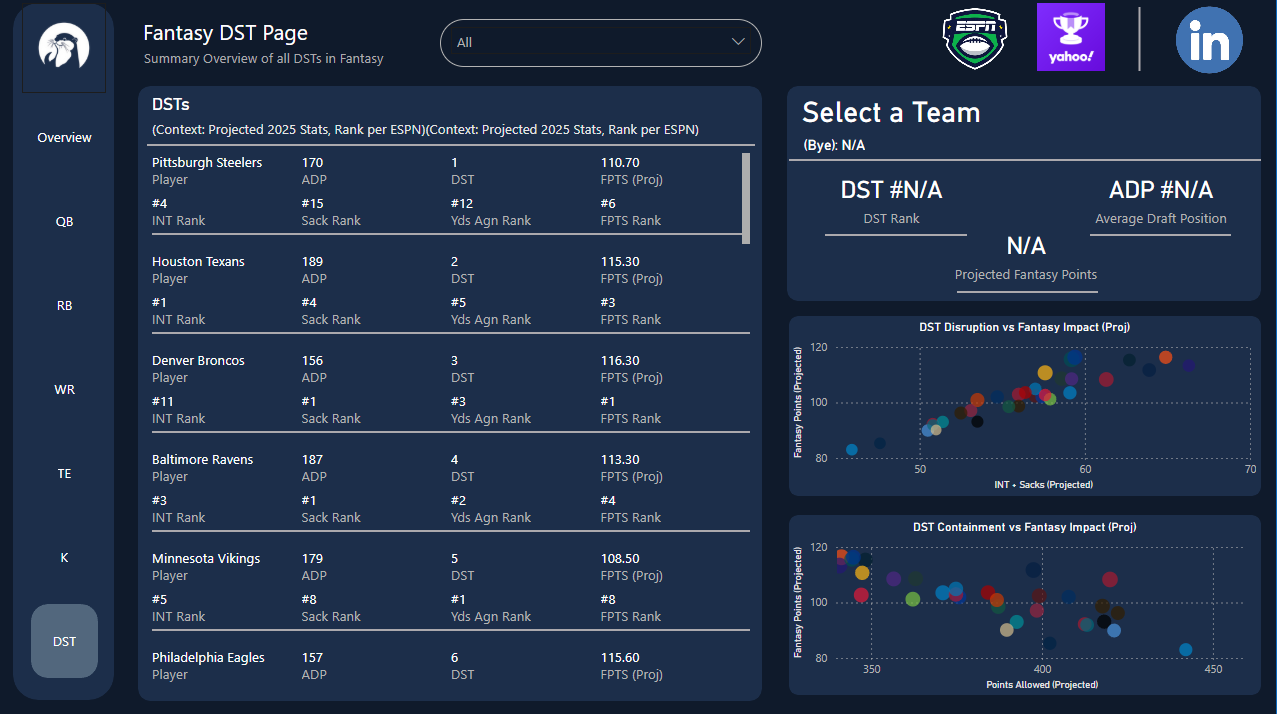

Layout of this report page (visuals, bound fields, positions):
{"tool":"powerbi","page":{"name":"DST","canvas":[1280,720],"ordinal":6},"visuals":[{"type":"shape","box":[0,0,1279.7,720],"z":0,"group":"g2"},{"type":"shape","box":[141.3,87.8,624,614.9],"z":0,"group":"g5"},{"type":"shape","box":[16.3,5.4,101.4,697.4],"z":1000,"group":"g3"},{"type":"slicer","fields":{"Values":["all_player_data.Player"]},"box":[443.5,21.7,321.8,48],"z":1000,"group":"g6"},{"type":"pageNavigator","box":[26.8,95.1,80.5,594.1],"z":1000,"group":"g4"},{"type":"group","id":"g1","title":"Group 13","box":[141.3,0,1053.3,82.4],"z":1500,"group":"g11"},{"type":"group","id":"g2","title":"Group 15","box":[0,0,1279.7,720],"z":2000},{"type":"group","id":"g3","title":"Group 5","box":[16.3,5.4,101.4,697.4],"z":2000,"group":"g11"},{"type":"shape","box":[790.7,87.8,473.7,215.4],"z":2000,"group":"g5"},{"type":"group","id":"g4","title":"Group 1","box":[26.8,95.1,80.5,594.1],"z":2000,"group":"g7"},{"type":"shape","box":[791.5,317.9,472.8,180.2],"z":2500},{"type":"shape","box":[791.5,517.1,472.8,180.2],"z":2750},{"type":"group","id":"g5","title":"Group 2","box":[141.3,87.8,1123.3,614.9],"z":3000},{"type":"cardVisual","fields":{"Data":["full_dst_data.Selected_DST"]},"box":[790.7,87.8,473.7,48],"z":4000,"group":"g5"},{"type":"multiRowCard","title":"DSTs ","fields":{"Values":["full_dst_data.Team","full_dst_data.DST_Overall_Label","full_dst_data.ESPN","full_dst_data.FPTS (Projected)","full_dst_data.Rank_Projected_INT_Label","full_dst_data.Rank_Projected_Sack_Label","full_dst_data.Rank_Projected_Yds_Agn_Label","full_dst_data.Rank_Projected_FPTS_Label"]},"box":[150,96,608,601],"z":4000},{"type":"group","id":"g6","title":"Group 9","box":[141.3,14.5,624,63.4],"z":5000,"group":"g1"},{"type":"textbox","box":[141.3,14.5,283.4,40.8],"z":5000,"group":"g6"},{"type":"shape","box":[960,279.8,141.5,28.1],"z":5000,"group":"g5"},{"type":"scatterChart","title":"DST Disruption vs Fantasy Impact (Proj)","fields":{"X":["Sum(full_dst_data.Disruption)"],"Y":["full_dst_data.FPTS (Projected)"],"Size":["Sum(full_dst_data.FF (Projected))"],"Series":["full_dst_data.Team"]},"box":[791,322,473,175],"z":5000},{"type":"image","box":[937.4,0,81.5,82.4],"z":5001,"group":"g10"},{"type":"image","box":[1030.7,0,86.9,77.9],"z":5003,"group":"g9"},{"type":"textbox","box":[142,46.2,283.4,31.7],"z":6000,"group":"g6"},{"type":"cardVisual","fields":{"Data":["full_dst_data.DST_Bye_Label"]},"box":[790,128.7,96.9,31.7],"z":6000,"group":"g5"},{"type":"scatterChart","title":"DST Containment vs Fantasy Impact (Proj)","fields":{"Y":["full_dst_data.FPTS (Projected)"],"X":["full_dst_data.PA (Projected)"],"Size":["Sum(full_dst_data.SACK (Projected))"],"Series":["full_dst_data.Team"]},"box":[791,522,473,175],"z":6000},{"type":"image","box":[1164.7,2.7,95.1,77.9],"z":7000},{"type":"shape","box":[791.9,146,472.8,31.7],"z":7000,"group":"g5"},{"type":"image","box":[25.2,5.4,83.7,89.7],"z":8000,"group":"g7"},{"type":"shape","box":[828.2,222.5,142,28],"z":8000,"group":"g5"},{"type":"card","fields":{"Values":["full_dst_data.Player_DST_Rank_Label"]},"box":[790,166,209,70.6],"z":9000},{"type":"shape","box":[1092.8,222.5,142,28],"z":9000,"group":"g5"},{"type":"card","fields":{"Values":["full_dst_data.DST_ADP_Label"]},"box":[1093.1,166,142,70.6],"z":10000},{"type":"shape","box":[1093.2,9.1,101.4,64.3],"z":11000,"group":"g8"},{"type":"card","fields":{"Values":["full_dst_data.DST_Fantasy_Point_Total"]},"box":[927,225,204,66],"z":11000},{"type":"group","id":"g7","title":"Group 4","box":[25.2,5.4,83.7,683.8],"z":11001,"group":"g3"},{"type":"group","id":"g8","title":"Group 10","box":[1093.2,9.1,101.4,64.3],"z":11001,"group":"g9"},{"type":"group","id":"g9","title":"Group 11","box":[1030.7,0,163.9,77.9],"z":11002,"group":"g10"},{"type":"group","id":"g10","title":"Group 12","box":[937.4,0,257.2,82.4],"z":11003,"group":"g1"},{"type":"group","id":"g11","title":"Group 14","box":[16.3,0,1178.3,702.8],"z":11005,"group":"g2"}]}

Visuals, with their boxes in screenshot pixels (x1, y1, x2, y2), scaled from the page's 1280x720 canvas onto the 1277x714 screenshot:
shape: bbox=(0, 0, 1276, 713)
shape: bbox=(141, 87, 764, 697)
shape: bbox=(16, 5, 117, 697)
slicer - all_player_data.Player: bbox=(442, 22, 764, 69)
pageNavigator: bbox=(27, 94, 107, 683)
"Group 13" group: bbox=(141, 0, 1192, 82)
"Group 15" group: bbox=(0, 0, 1276, 713)
"Group 5" group: bbox=(16, 5, 117, 697)
shape: bbox=(789, 87, 1261, 301)
"Group 1" group: bbox=(27, 94, 107, 683)
shape: bbox=(790, 315, 1261, 494)
shape: bbox=(790, 513, 1261, 691)
"Group 2" group: bbox=(141, 87, 1262, 697)
cardVisual - full_dst_data.Selected_DST: bbox=(789, 87, 1261, 135)
"DSTs " multiRowCard: bbox=(150, 95, 756, 691)
"Group 9" group: bbox=(141, 14, 764, 77)
textbox: bbox=(141, 14, 424, 55)
shape: bbox=(958, 277, 1099, 305)
"DST Disruption vs Fantasy Impact (Proj)" scatterChart: bbox=(789, 319, 1261, 493)
image: bbox=(935, 0, 1017, 82)
image: bbox=(1028, 0, 1115, 77)
textbox: bbox=(142, 46, 424, 77)
cardVisual - full_dst_data.DST_Bye_Label: bbox=(788, 128, 885, 159)
"DST Containment vs Fantasy Impact (Proj)" scatterChart: bbox=(789, 518, 1261, 691)
image: bbox=(1162, 3, 1257, 80)
shape: bbox=(790, 145, 1262, 176)
image: bbox=(25, 5, 109, 94)
shape: bbox=(826, 221, 968, 248)
card - full_dst_data.Player_DST_Rank_Label: bbox=(788, 165, 997, 235)
shape: bbox=(1090, 221, 1232, 248)
card - full_dst_data.DST_ADP_Label: bbox=(1091, 165, 1232, 235)
shape: bbox=(1091, 9, 1192, 73)
card - full_dst_data.DST_Fantasy_Point_Total: bbox=(925, 223, 1128, 289)
"Group 4" group: bbox=(25, 5, 109, 683)
"Group 10" group: bbox=(1091, 9, 1192, 73)
"Group 11" group: bbox=(1028, 0, 1192, 77)
"Group 12" group: bbox=(935, 0, 1192, 82)
"Group 14" group: bbox=(16, 0, 1192, 697)
